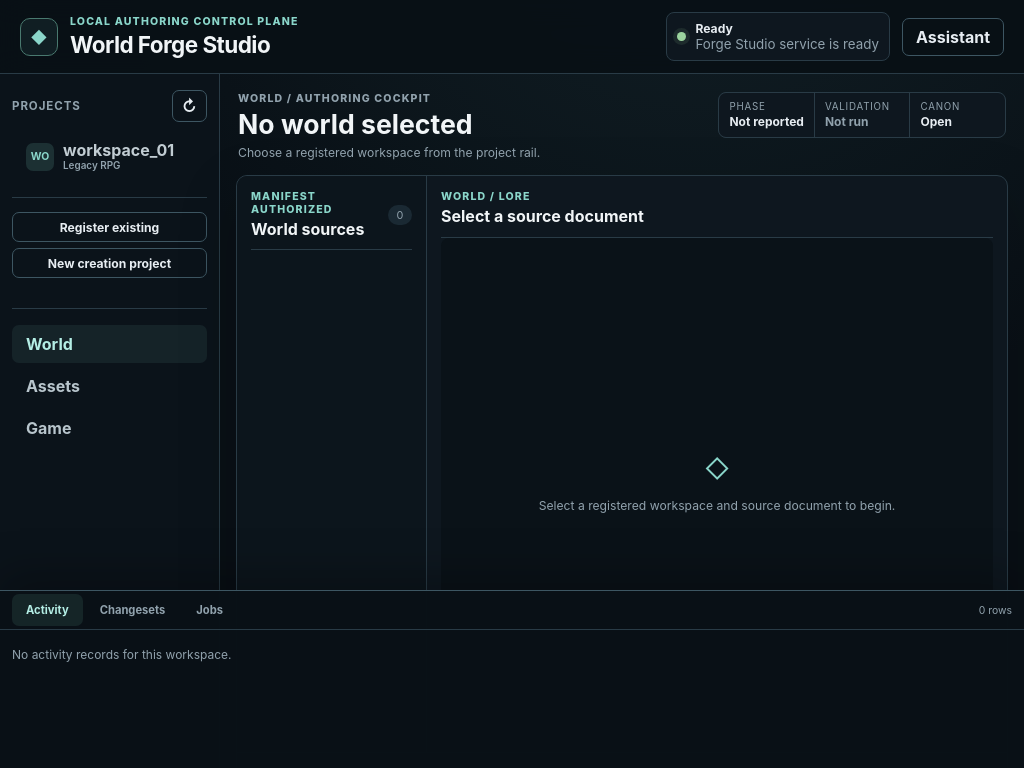
Studio World authoring cockpit › loads registered workspaces and the four named World resources on selection
Click the button "WO workspace_01 Legacy RPG": (110, 157) [12,132,207,181]
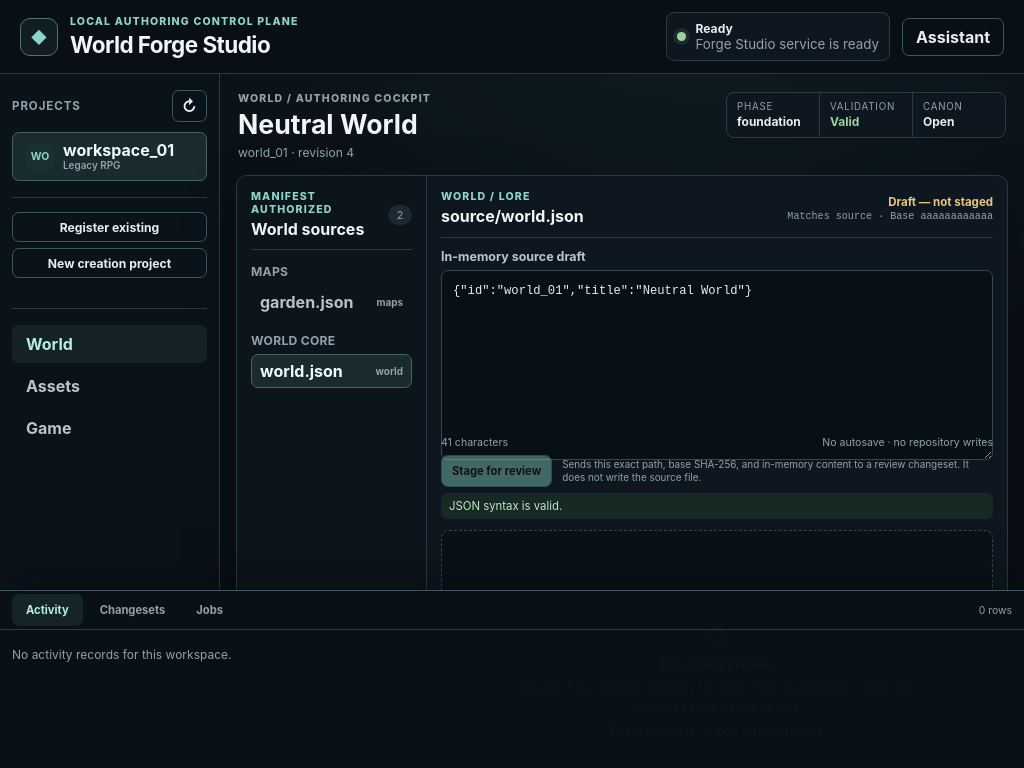
expect the heading "Neutral World" is shown: met, box [238,108,431,140]
expect the text box labelled "In-memory source draft" holds "{\"id\":\"world_01\",\"title\":\"Neutral World\"}": met, box [441,270,993,460]
expect the text "foundation" is shown: met, box [737,114,809,129]
